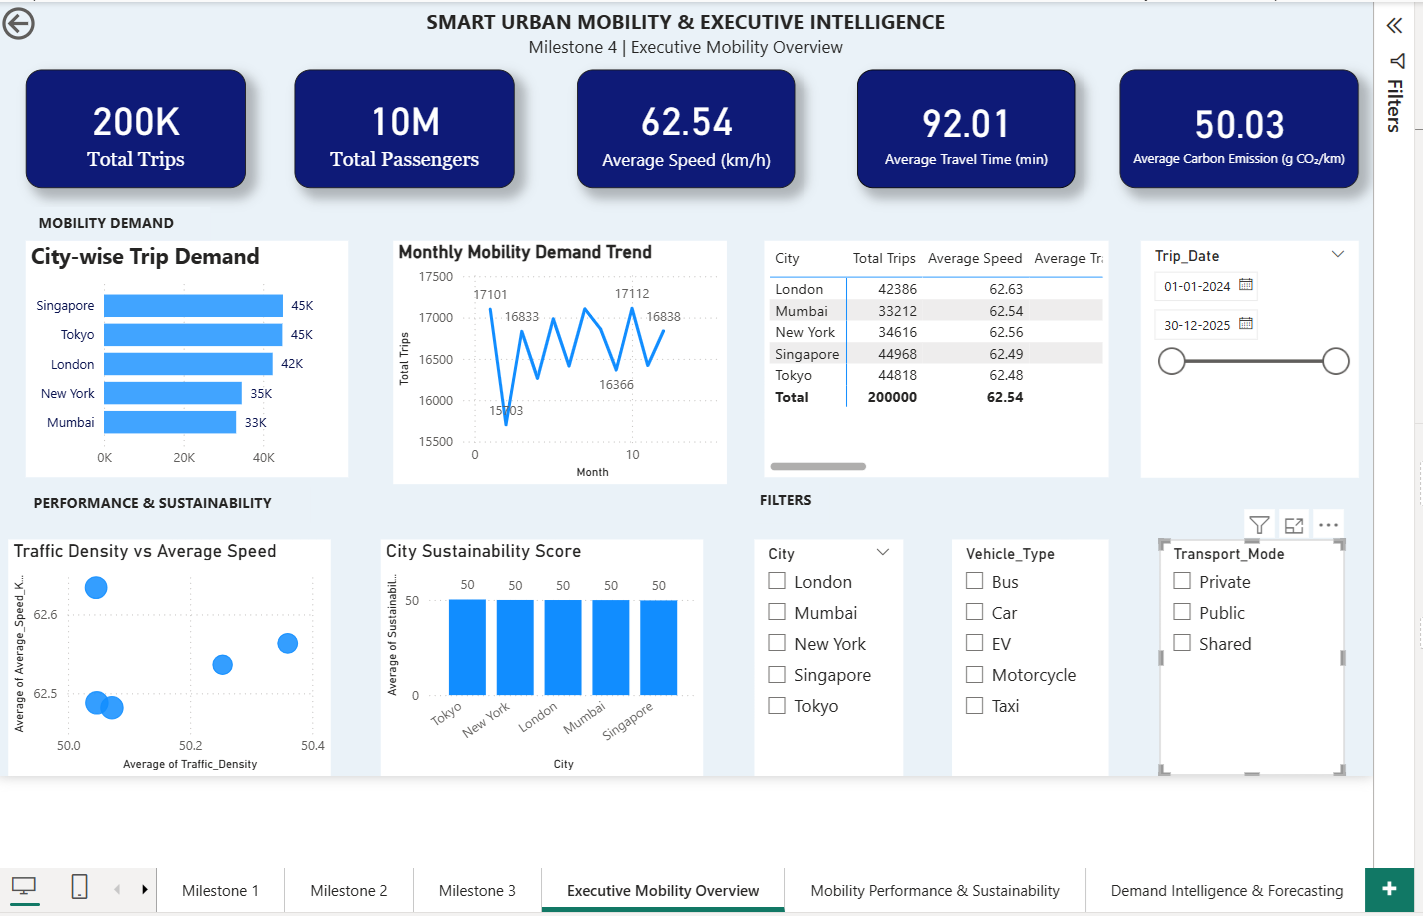

The page's visual inventory and layout, read from the dashboard file:
{"tool":"powerbi","page":{"name":"Executive Mobility Overview","canvas":[1280,720],"ordinal":3},"visuals":[{"type":"textbox","box":[379.1,0,523.3,62.8],"z":0},{"type":"card","fields":{"Values":["Fact_Mobility.Total Trips"]},"box":[26.7,62.8,204.7,110.5],"z":1000},{"type":"card","title":"Total Passengers","fields":{"Values":["Sum(Fact_Mobility.Passenger_Count)"]},"box":[276.7,62.8,204.7,110.5],"z":2000},{"type":"card","fields":{"Values":["Fact_Mobility.Average Speed"]},"box":[539.5,62.8,203.5,110.5],"z":3000},{"type":"card","fields":{"Values":["Fact_Mobility.Average Travel Time"]},"box":[800,62.8,203.5,110.5],"z":4000},{"type":"card","fields":{"Values":["Fact_Mobility.Average Carbon Emission"]},"box":[1044.2,62.8,222.1,110.5],"z":5000},{"type":"clusteredBarChart","title":"City-wise Trip Demand","fields":{"Category":["Dim_Location.City"],"Y":["CountNonNull(Fact_Mobility.Trip_ID)"]},"box":[26.7,222.1,300,220],"z":6000},{"type":"lineChart","title":"Monthly Mobility Demand Trend","fields":{"Category":["Fact_Mobility.Month"],"Y":["Fact_Mobility.Total Trips"]},"box":[368.6,222.1,310.5,226.7],"z":7000},{"type":"scatterChart","title":"Traffic Density vs Average Speed","fields":{"X":["Avg(Fact_Mobility.Traffic_Density)"],"Y":["Avg(Fact_Mobility.Average_Speed_KMH)"],"Size":["Fact_Mobility.Total Trips"],"Category":["Dim_Location.City"]},"box":[10.5,500,300,219.8],"z":8000},{"type":"clusteredColumnChart","title":"City Sustainability Score","fields":{"Category":["Dim_Location.City"],"Y":["Avg(Fact_Mobility.Sustainability_Score)"]},"box":[357,500,300,219.8],"z":9000},{"type":"pivotTable","fields":{"Rows":["Dim_Location.City"],"Values":["Fact_Mobility.Total Trips","Fact_Mobility.Average Speed","Fact_Mobility.Average Travel Time","Fact_Mobility.Average Carbon Emission","Fact_Mobility.Average Mobility Efficiency","Avg(Fact_Mobility.Sustainability_Score)"]},"box":[714,222.1,319.8,219.8],"z":10000},{"type":"actionButton","box":[0,0,100,40],"z":11000},{"type":"slicer","fields":{"Values":["Dim_Location.City"]},"box":[704.7,500,138.4,219.8],"z":12000},{"type":"slicer","fields":{"Values":["Dim_Vehicle.Vehicle_Type"]},"box":[888.4,500,145.3,219.8],"z":13000},{"type":"slicer","fields":{"Values":["Fact_Mobility.Trip_Date"]},"box":[1064,222.1,202.3,219.8],"z":14000},{"type":"slicer","fields":{"Values":["Dim_Vehicle.Transport_Mode"]},"box":[1081.4,500,172.1,219.8],"z":15000},{"type":"textbox","box":[29.1,451.2,262.8,33.7],"z":16000},{"type":"textbox","box":[704.7,448.8,69.8,36],"z":17000},{"type":"textbox","box":[33.7,190.7,165.1,31.4],"z":18000}]}

Visuals, with their boxes on the page's 1280x720 design canvas (x1, y1, x2, y2). These are canvas units, not pixel positions in the 1427x916 screenshot, which may show the page scaled, cropped or inside an application window:
textbox: left=379, top=0, right=902, bottom=63
card - Fact_Mobility.Total Trips: left=27, top=63, right=231, bottom=173
"Total Passengers" card: left=277, top=63, right=481, bottom=173
card - Fact_Mobility.Average Speed: left=540, top=63, right=743, bottom=173
card - Fact_Mobility.Average Travel Time: left=800, top=63, right=1004, bottom=173
card - Fact_Mobility.Average Carbon Emission: left=1044, top=63, right=1266, bottom=173
"City-wise Trip Demand" clusteredBarChart: left=27, top=222, right=327, bottom=442
"Monthly Mobility Demand Trend" lineChart: left=369, top=222, right=679, bottom=449
"Traffic Density vs Average Speed" scatterChart: left=10, top=500, right=310, bottom=720
"City Sustainability Score" clusteredColumnChart: left=357, top=500, right=657, bottom=720
pivotTable - Dim_Location.City x Fact_Mobility.Total Trips: left=714, top=222, right=1034, bottom=442
actionButton: left=0, top=0, right=100, bottom=40
slicer - Dim_Location.City: left=705, top=500, right=843, bottom=720
slicer - Dim_Vehicle.Vehicle_Type: left=888, top=500, right=1034, bottom=720
slicer - Fact_Mobility.Trip_Date: left=1064, top=222, right=1266, bottom=442
slicer - Dim_Vehicle.Transport_Mode: left=1081, top=500, right=1254, bottom=720
textbox: left=29, top=451, right=292, bottom=485
textbox: left=705, top=449, right=774, bottom=485
textbox: left=34, top=191, right=199, bottom=222
